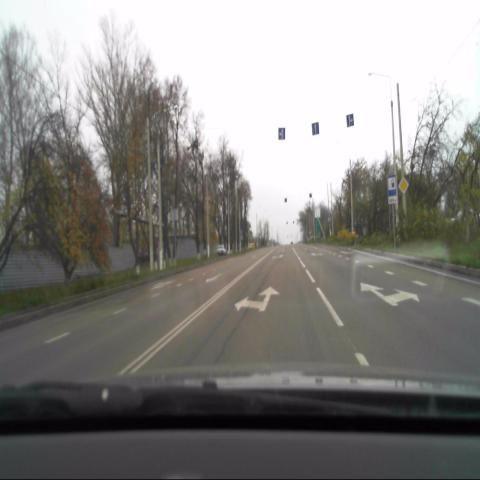7_3: (387, 176, 397, 204)
